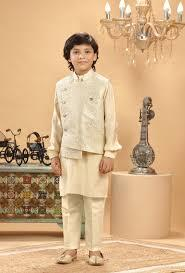Human: (43, 29, 118, 266)
